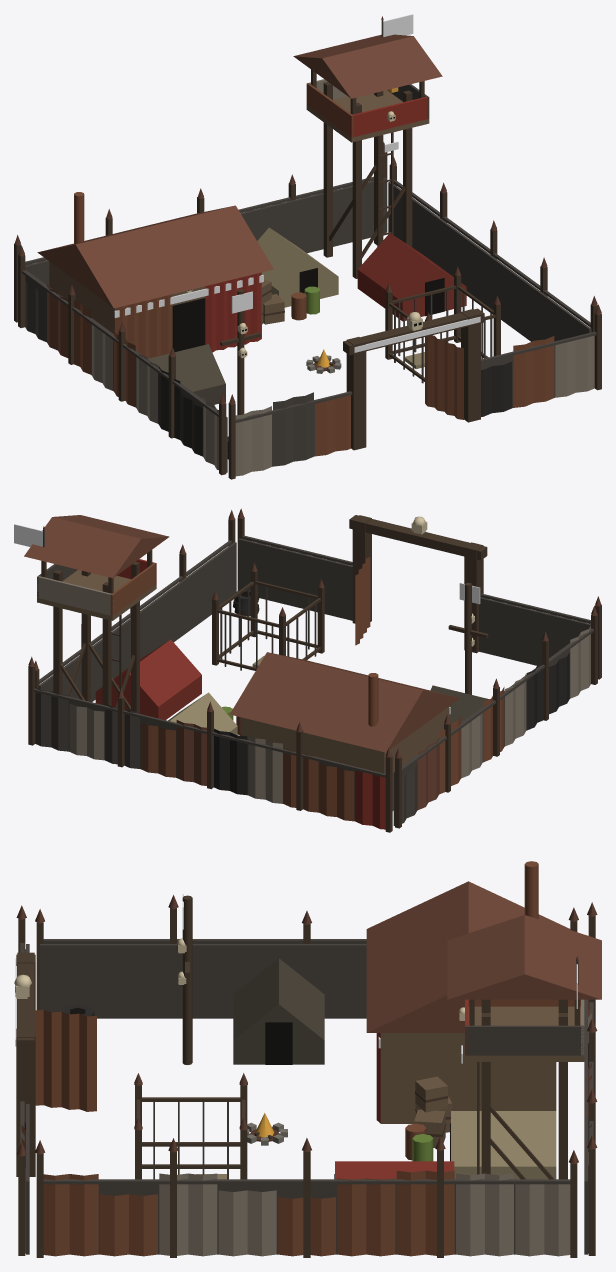
The picture shows the model from 3 angles, top to bottom: view 1: azimuth 30°, elevation 25°; view 2: azimuth 150°, elevation 25°; view 3: azimuth 270°, elevation 25°; orthographic projection. The views are drawn at different scales.
Visible parts, largest first — view 1: raider_building_camp; view 2: raider_building_camp; view 3: raider_building_camp.
Part boxes in pixels (box(x1,y1,x2,y2)): raider_building_camp: box(14, 14, 601, 479); raider_building_camp: box(14, 508, 601, 832); raider_building_camp: box(14, 861, 601, 1257).
Bounding box in the file's own units: 17.3 × 9.25 × 16.74.
